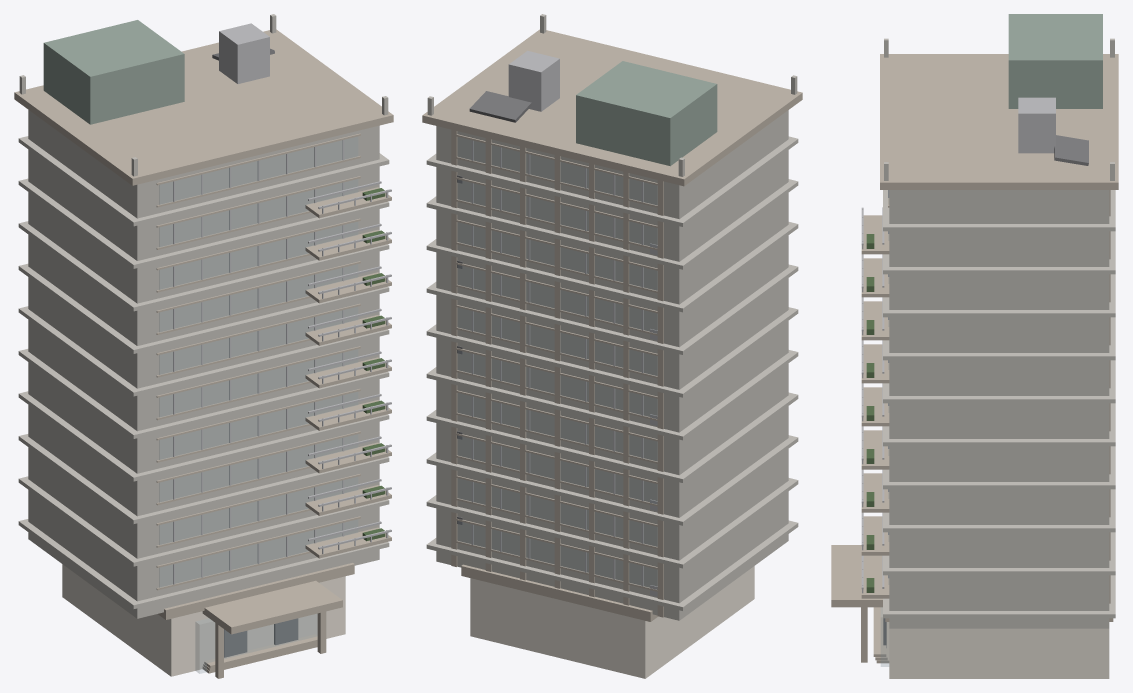
Rendered from hero-building.glb.
3 views of the same model, side by side, from view 1: azimuth 30°, elevation 25°; view 2: azimuth 150°, elevation 25°; view 3: azimuth 270°, elevation 25° (orthographic).
Parts seen in each view (by area): view 1: concrete, stone, glass, paintMuted, metal, render, foliage, darkMetal; view 2: concrete, stone, glass, render, paintMuted, metal, darkMetal; view 3: concrete, stone, render, paintMuted, metal, foliage, darkMetal, glass.
Boxes of the visible parts, <box> form: concrete: <box>18,14,389,618</box>; stone: <box>14,29,393,678</box>; glass: <box>159,137,357,673</box>; paintMuted: <box>43,20,184,124</box>; metal: <box>173,23,391,584</box>; render: <box>62,564,345,676</box>; foliage: <box>362,188,385,541</box>; darkMetal: <box>212,48,298,657</box>; concrete: <box>426,14,798,620</box>; stone: <box>422,29,802,621</box>; glass: <box>458,137,657,587</box>; render: <box>470,566,754,678</box>; paintMuted: <box>576,61,717,166</box>; metal: <box>471,50,657,596</box>; darkMetal: <box>457,91,531,524</box>; concrete: <box>883,38,1115,628</box>; stone: <box>831,54,1118,663</box>; render: <box>889,628,1109,678</box>; paintMuted: <box>1008,14,1102,108</box>; metal: <box>861,97,1055,593</box>; foliage: <box>866,234,874,592</box>; darkMetal: <box>883,135,1088,647</box>; glass: <box>881,190,888,666</box>.
Size of the model in its own units: 19.4 by 39.9 by 18.3.
